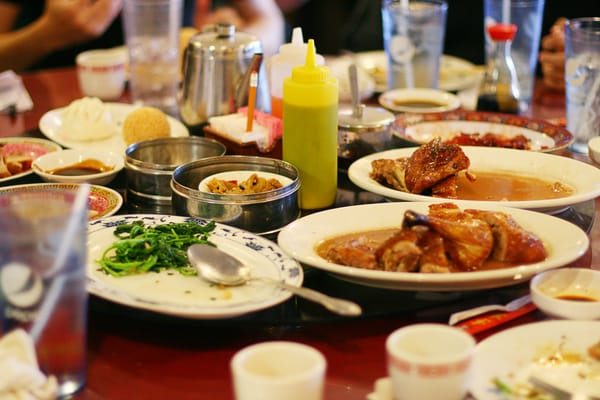pizza: (385, 322, 477, 397), (229, 340, 327, 398)
salad: (186, 242, 252, 285)
sushi: (281, 201, 567, 299), (169, 154, 301, 233), (123, 135, 227, 210), (530, 266, 600, 320), (31, 147, 122, 187), (0, 136, 63, 182), (378, 86, 462, 116)
